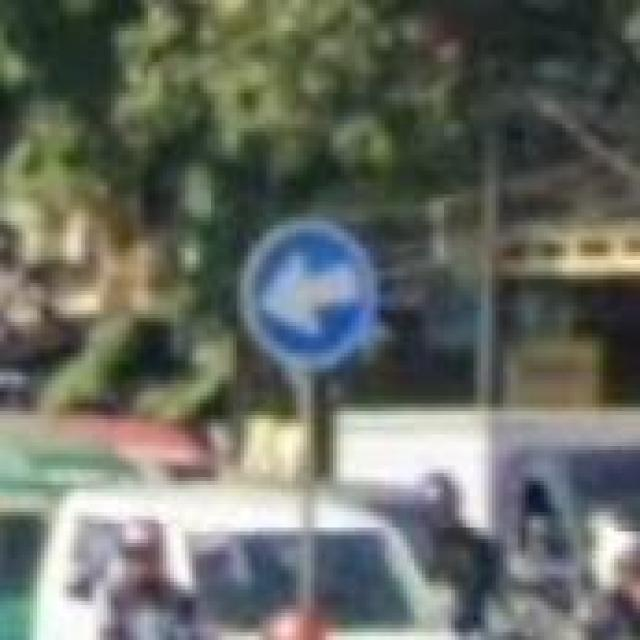traffic sign: (248, 221, 366, 360)
